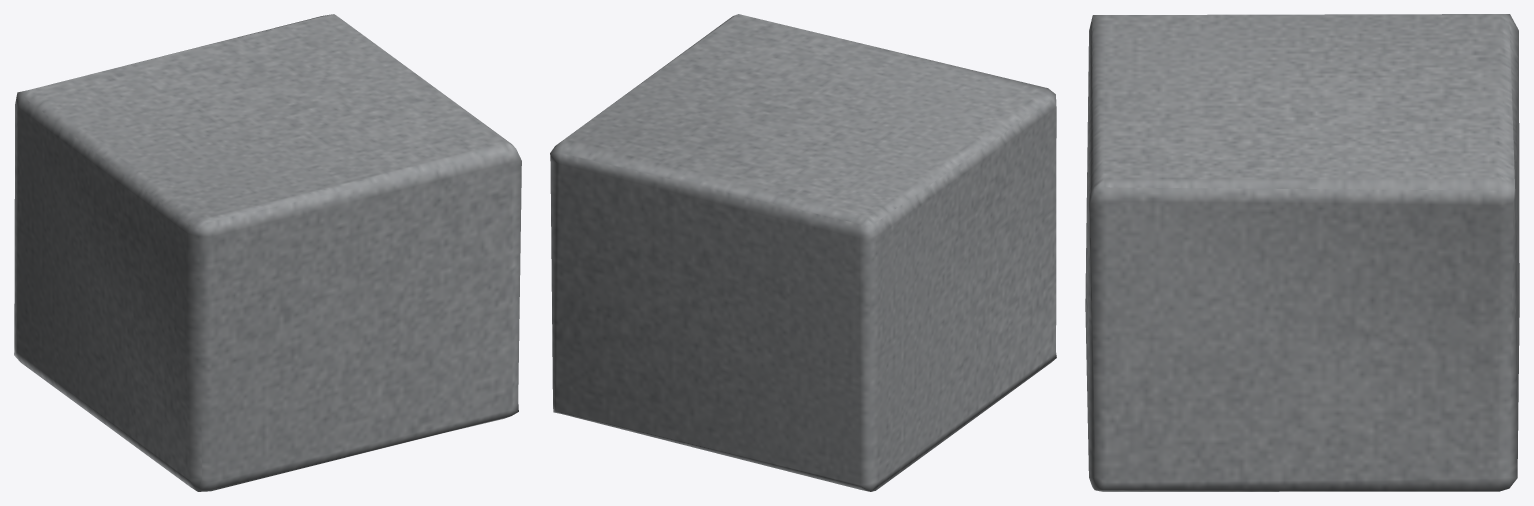
File: pave.glb
3 renders of one model, left to right at view 1: azimuth 30°, elevation 25°; view 2: azimuth 150°, elevation 25°; view 3: azimuth 270°, elevation 25°, orthographic. The views are drawn at different scales.
Visible parts, largest first — view 1: pave; view 2: pave; view 3: pave.
Part boxes in pixels (x1,y1,x2,y2): pave: (14,14,521,491); pave: (550,14,1056,491); pave: (1085,14,1519,491).
Size of the model in its own units: 0.1 by 0.08 by 0.1.
1 material, 1 textured.
